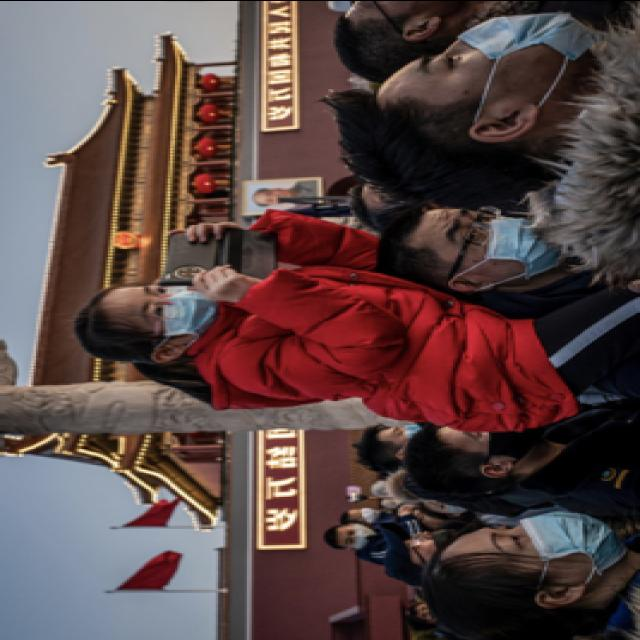mask_weared_incorrect: (402, 524, 460, 558)
with_mask: (403, 11, 599, 115), (474, 510, 620, 584), (441, 202, 561, 284), (130, 278, 220, 342), (441, 422, 539, 462), (379, 422, 422, 447), (340, 518, 370, 546), (348, 504, 377, 518)
